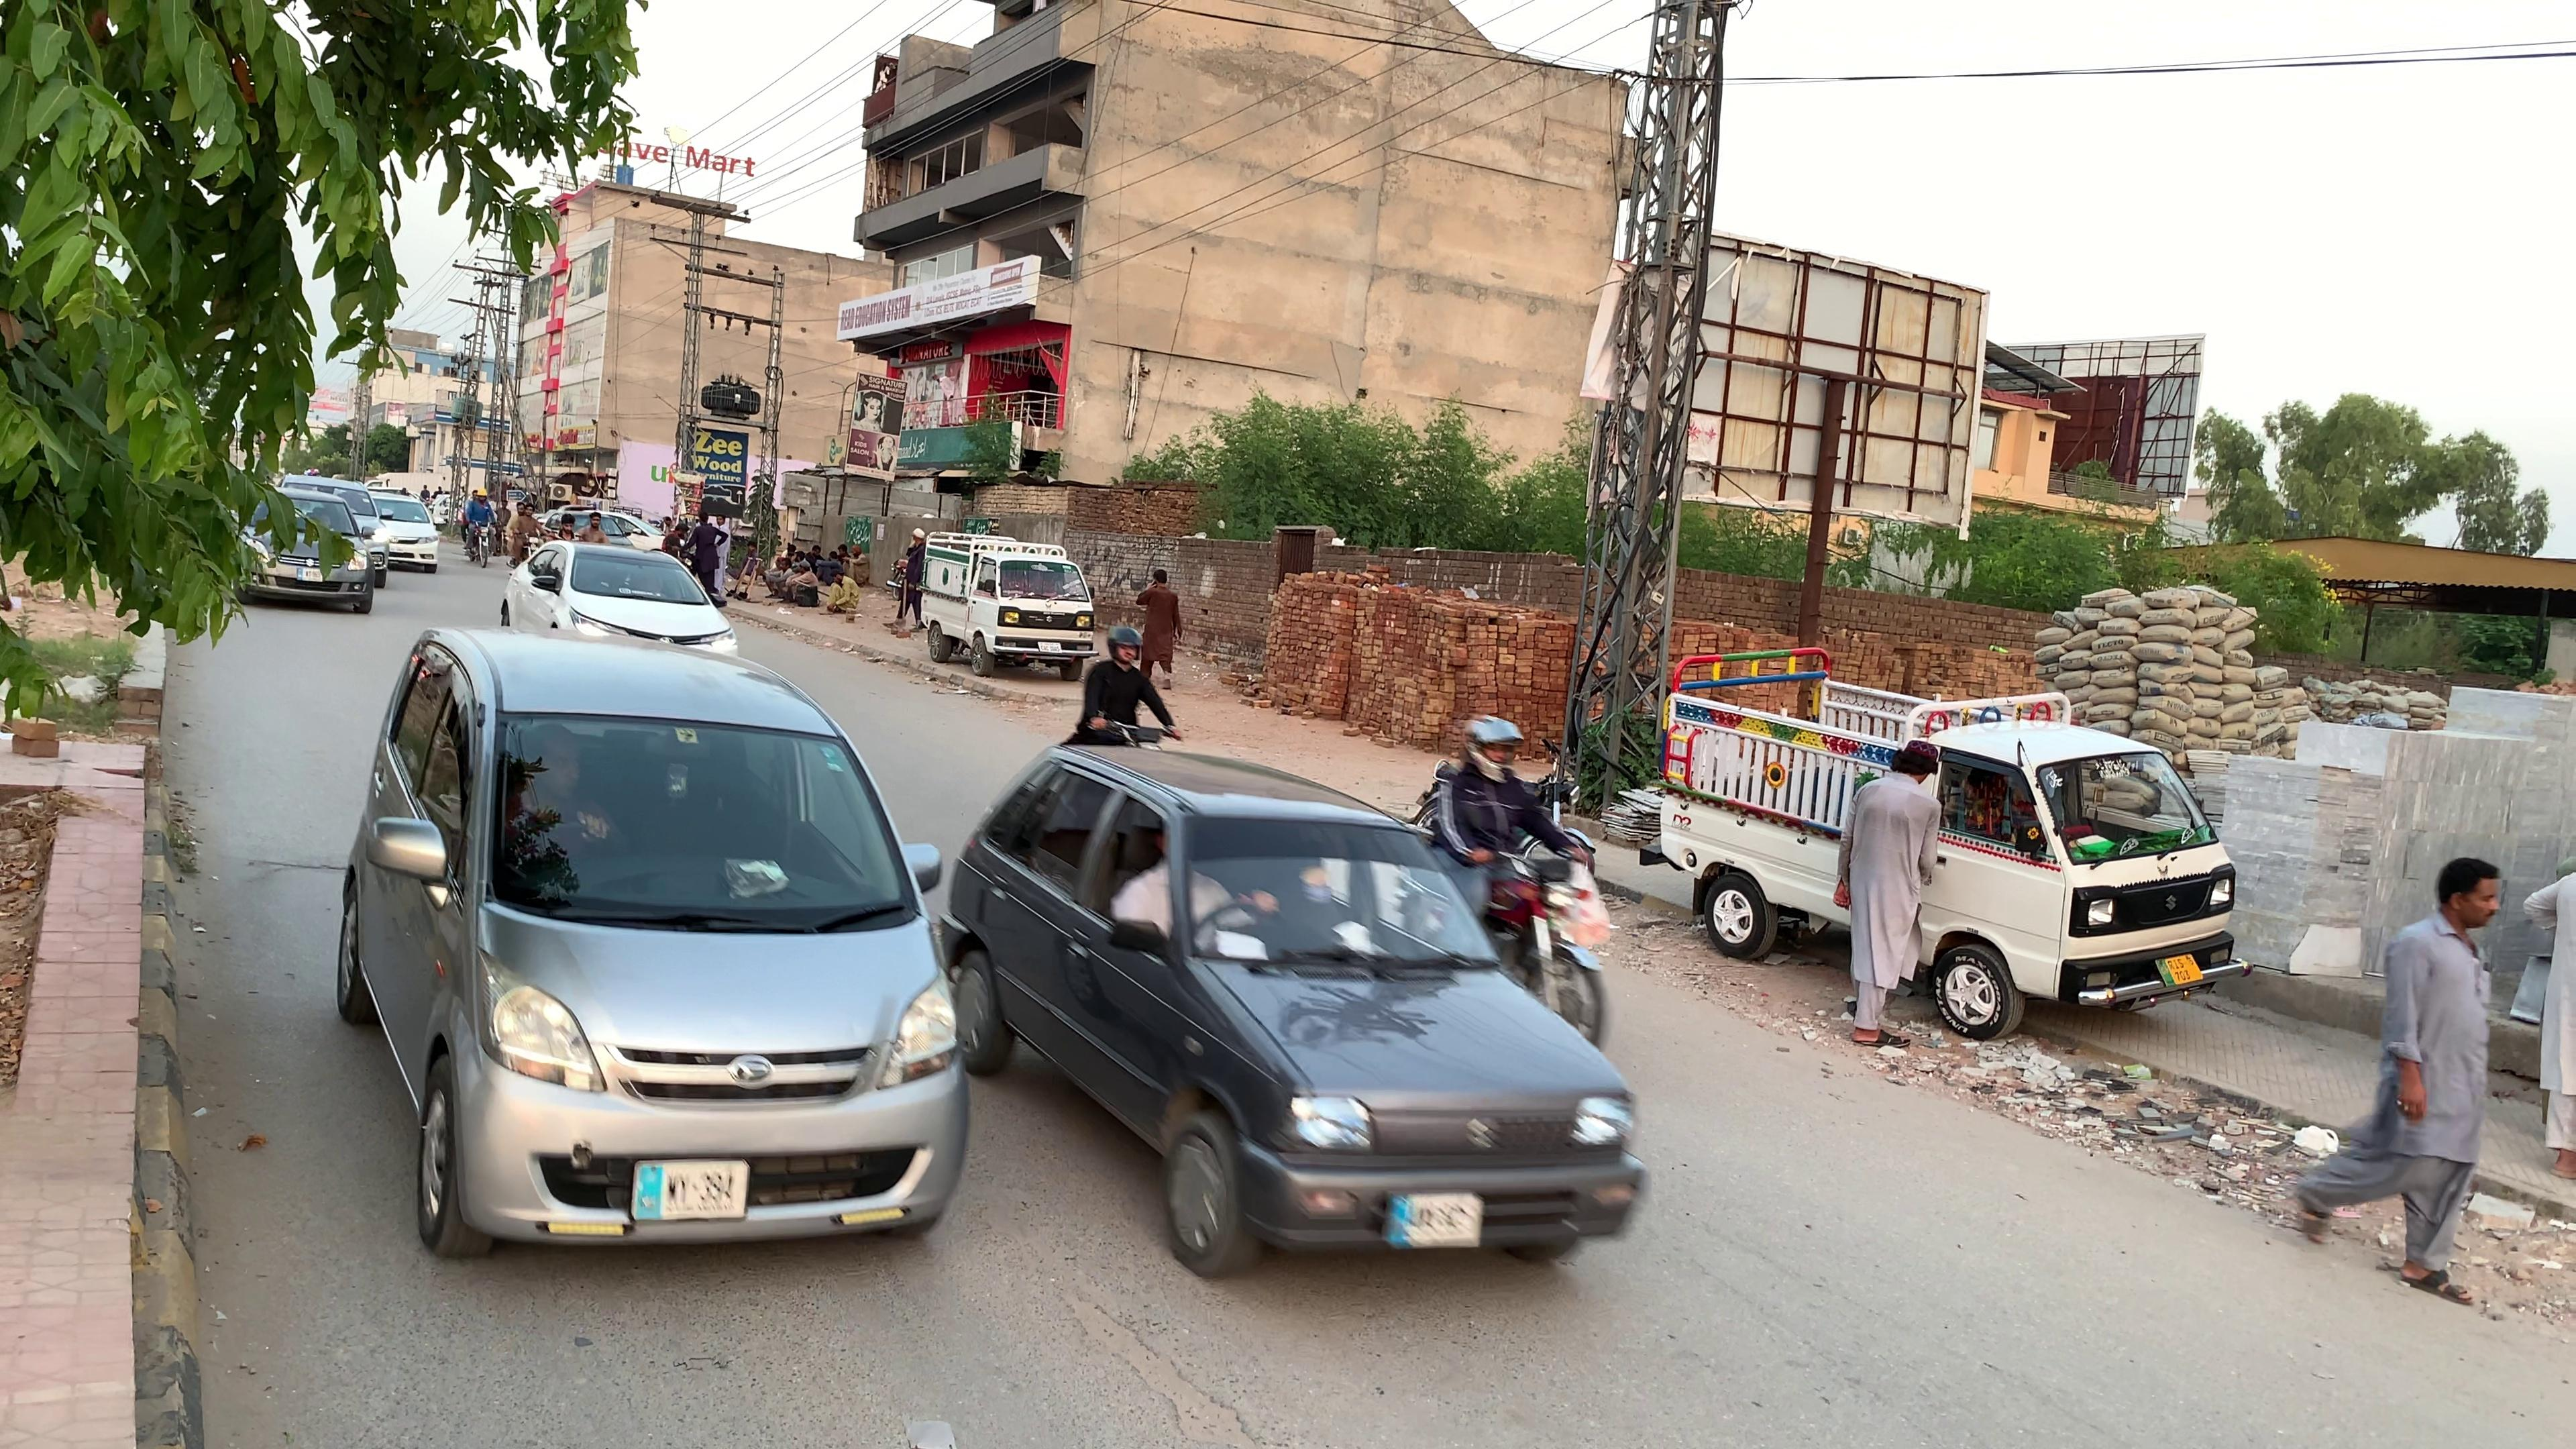windshield: (460, 674, 943, 936), (1168, 798, 1513, 989)
